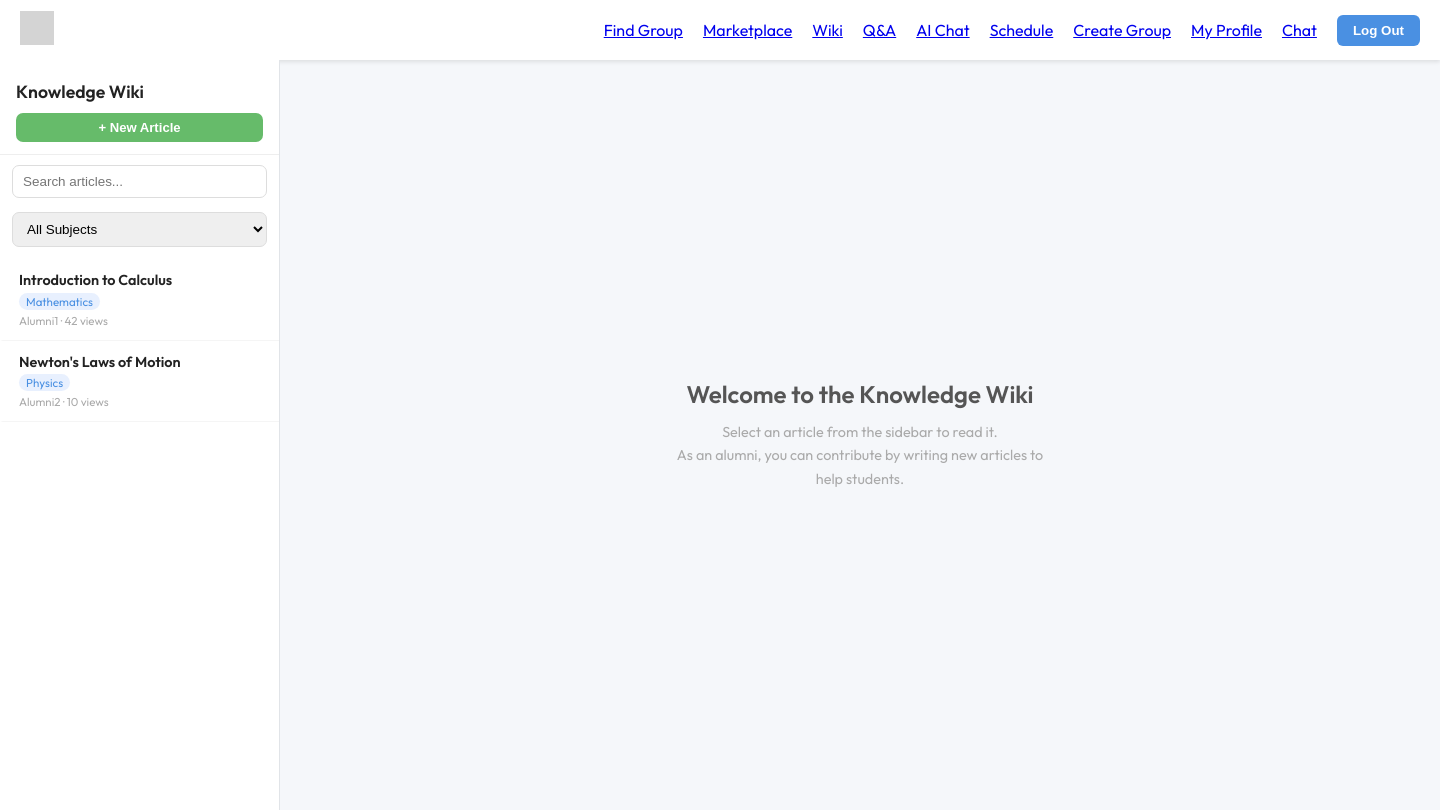
Test: Wiki page › alumni does not see Edit/Delete on another author's article
Click the text "Newton's Laws of Motion".
click(100, 362)  # box [19, 353, 181, 371]
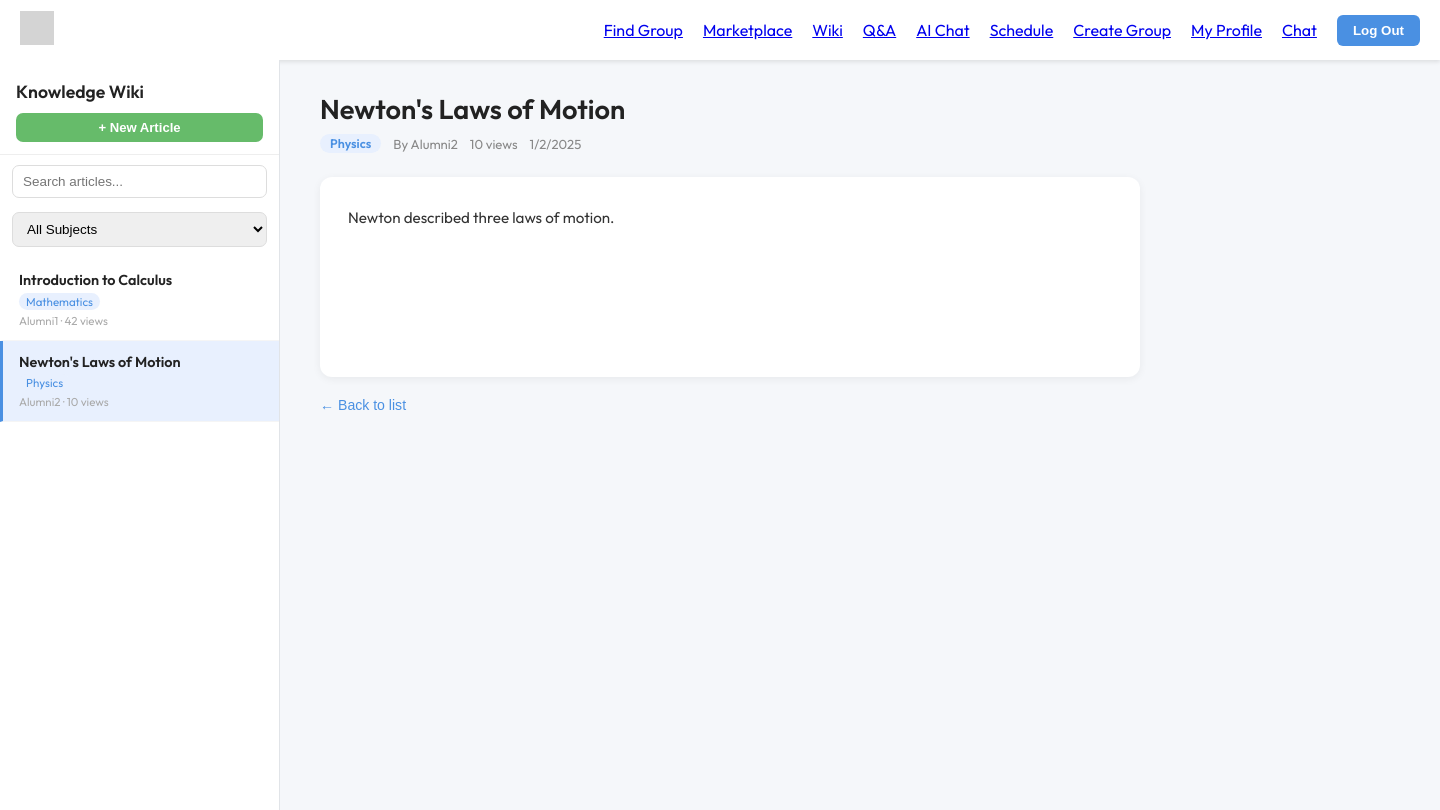
Expected: the text "Newton described three laws of motion." is shown, [320, 177, 1140, 377]
